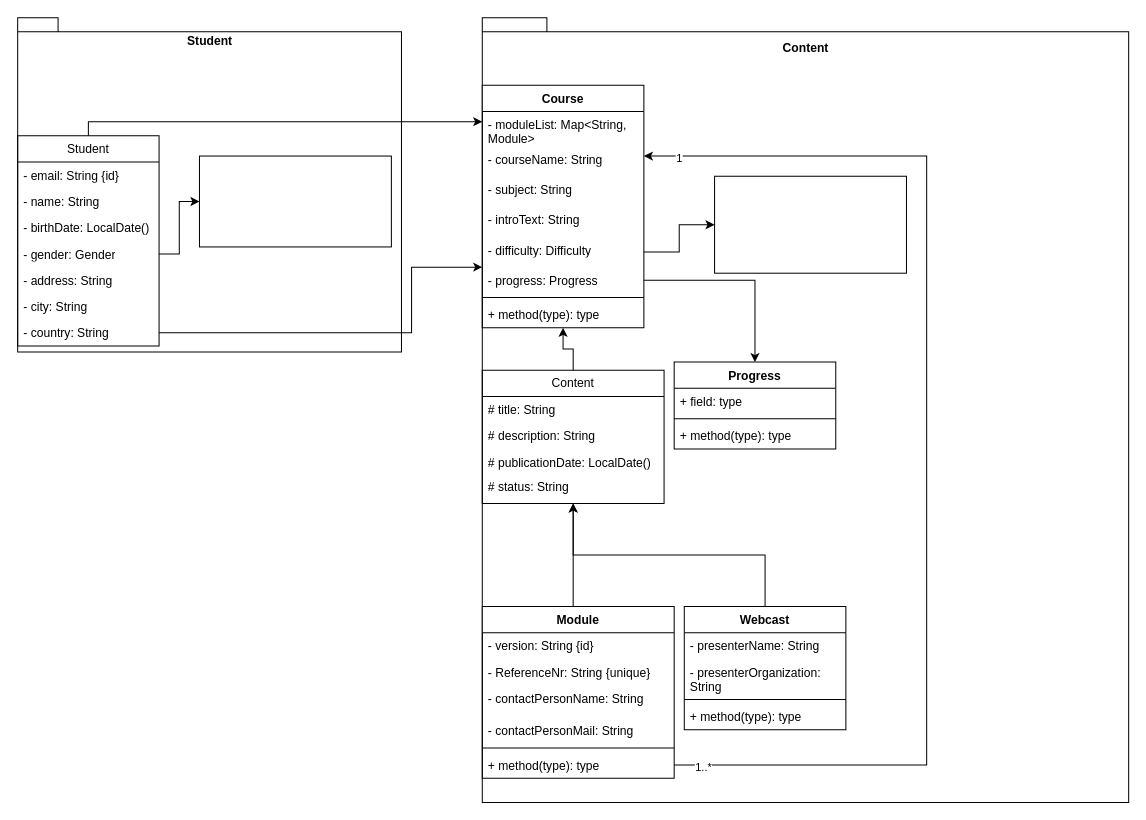
Some shapes in this 1146 by 820 pixel diagram are drawn without their labels. The shapes that lost their labels are listed below. From the top down, each one's centre as x and y in pixels, then its label:
(294,201): <<enumeration>> Gender Male Fema le Other
(810,224): <<enumeration>> Difficulty beginner intermediate expert
